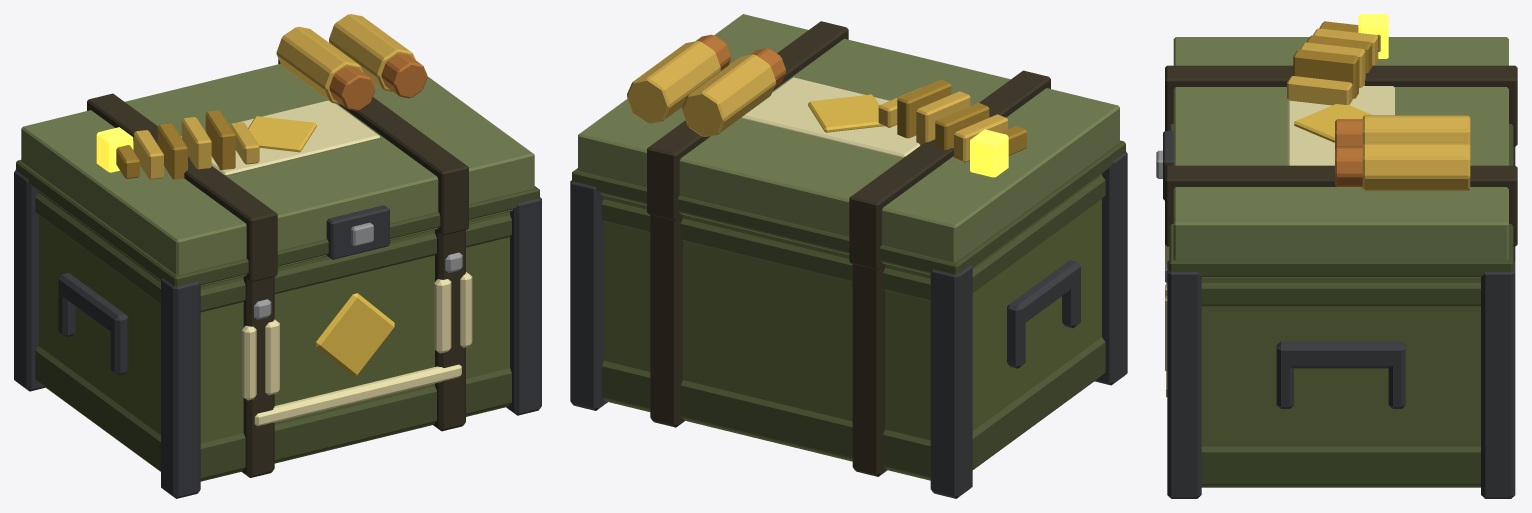
Rendered from myw_crate_zone5.glb.
3 views of the same model, side by side, from view 1: azimuth 30°, elevation 25°; view 2: azimuth 150°, elevation 25°; view 3: azimuth 270°, elevation 25° (orthographic). The views are drawn at different scales.
Parts seen in each view (by area): view 1: Body, Lid; view 2: Body, Lid; view 3: Lid, Body.
Part boxes in pixels (x1,y1,x2,y2): Body: (14, 170, 541, 498); Lid: (16, 14, 539, 286); Body: (570, 151, 1127, 498); Lid: (572, 14, 1125, 274); Lid: (1156, 14, 1517, 278); Body: (1165, 146, 1515, 498).
Bounding box in the file's own units: 2.2 × 1.69 × 1.68.
